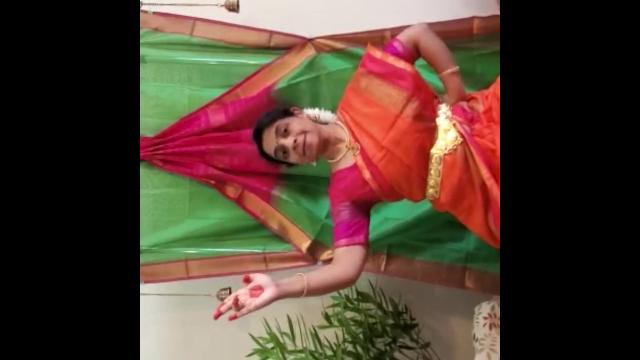tripataka: (208, 258, 286, 328)
